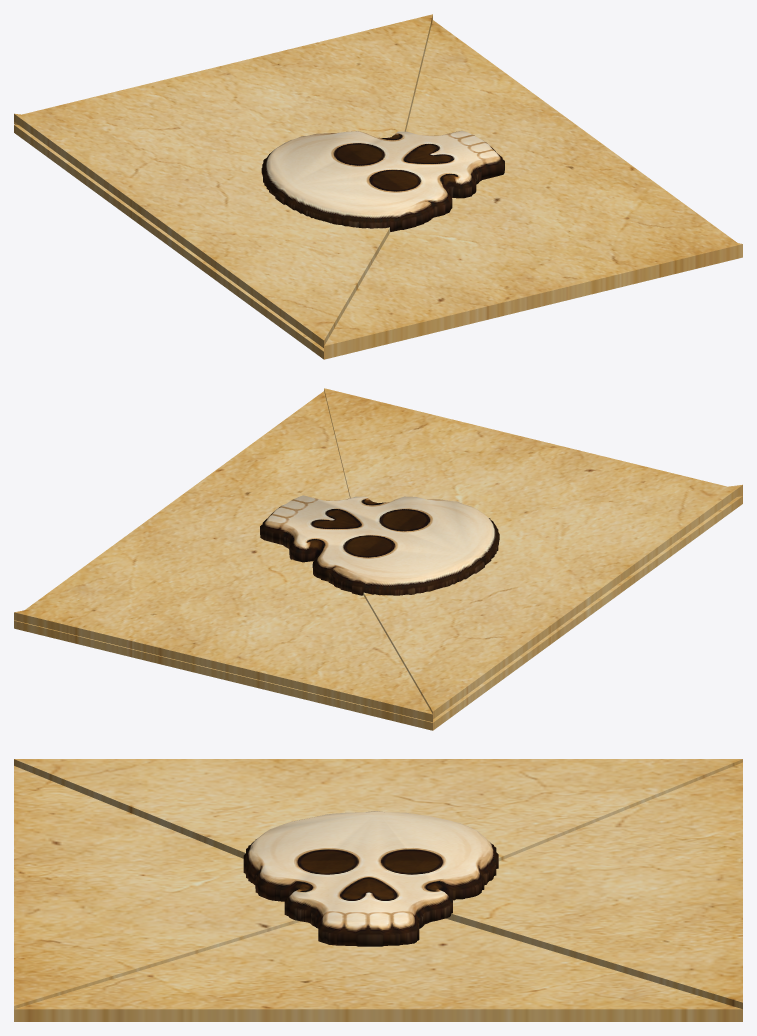
Rendered from item_7item258.glb.
3 views of the same model, one above another, from view 1: azimuth 30°, elevation 25°; view 2: azimuth 150°, elevation 25°; view 3: azimuth 270°, elevation 25° (orthographic). The views are drawn at different scales.
Visible parts, largest first — view 1: item_7item258; view 2: item_7item258; view 3: item_7item258.
Boxes of the visible parts, <box> form: item_7item258: <box>14,14,742,359</box>; item_7item258: <box>14,388,742,730</box>; item_7item258: <box>14,759,742,1021</box>.
Bounding box in the file's own units: 0.78 × 0.056 × 1.
1 material, 1 textured.
